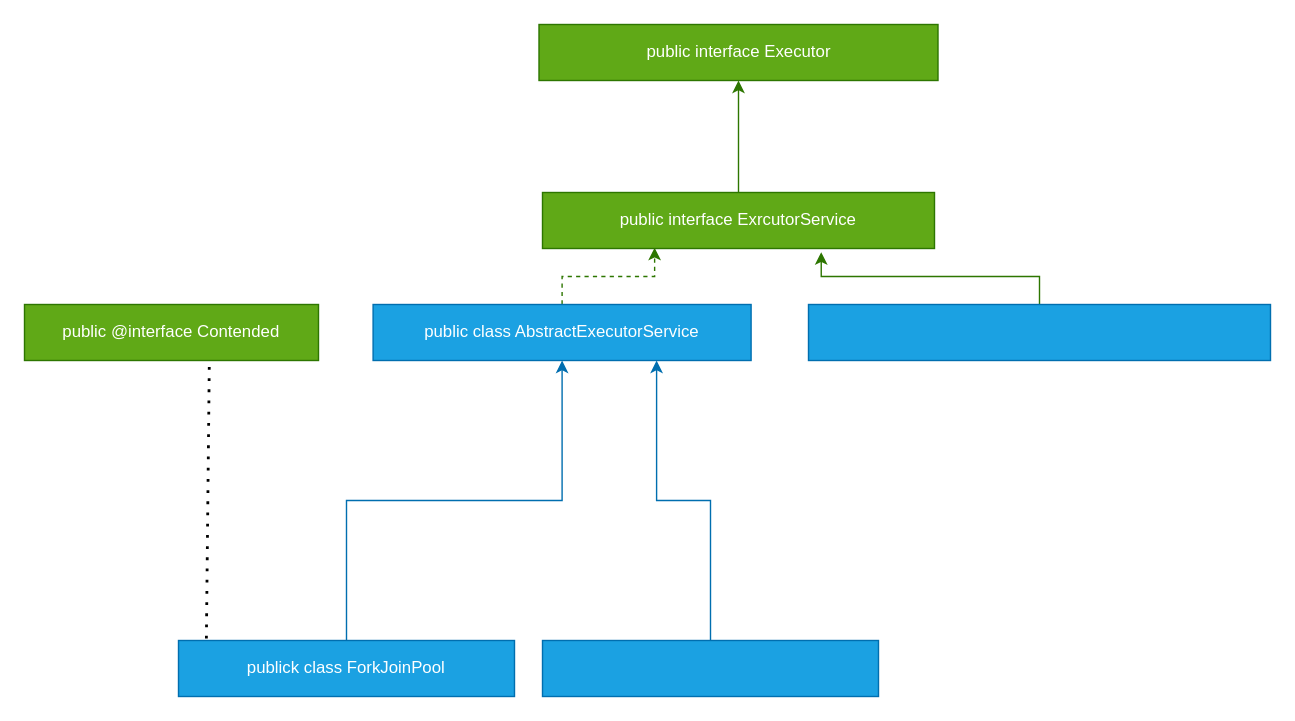
The diagram is 1295 pixels wide and 721 high, and some of its shapes have lost their labels. Each missing label, with the centre of its shape:
"public class ThreadPoolExecutor" belongs at [709,667].
"public interface ScheduledExecutorService" belongs at [1038,331].
